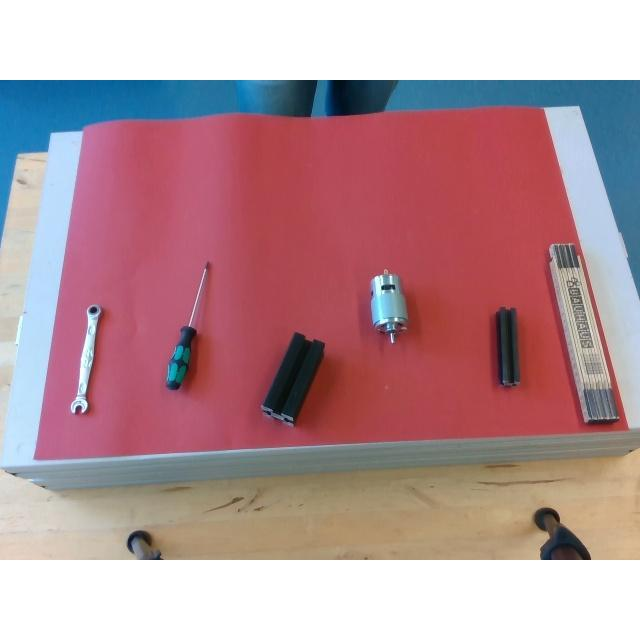F20_20_B: (494, 307, 518, 383)
Motor2: (369, 272, 406, 341)
S40_40_B: (262, 332, 326, 423)
Screwdriver: (162, 260, 212, 392)
Wrench: (78, 304, 102, 412)
